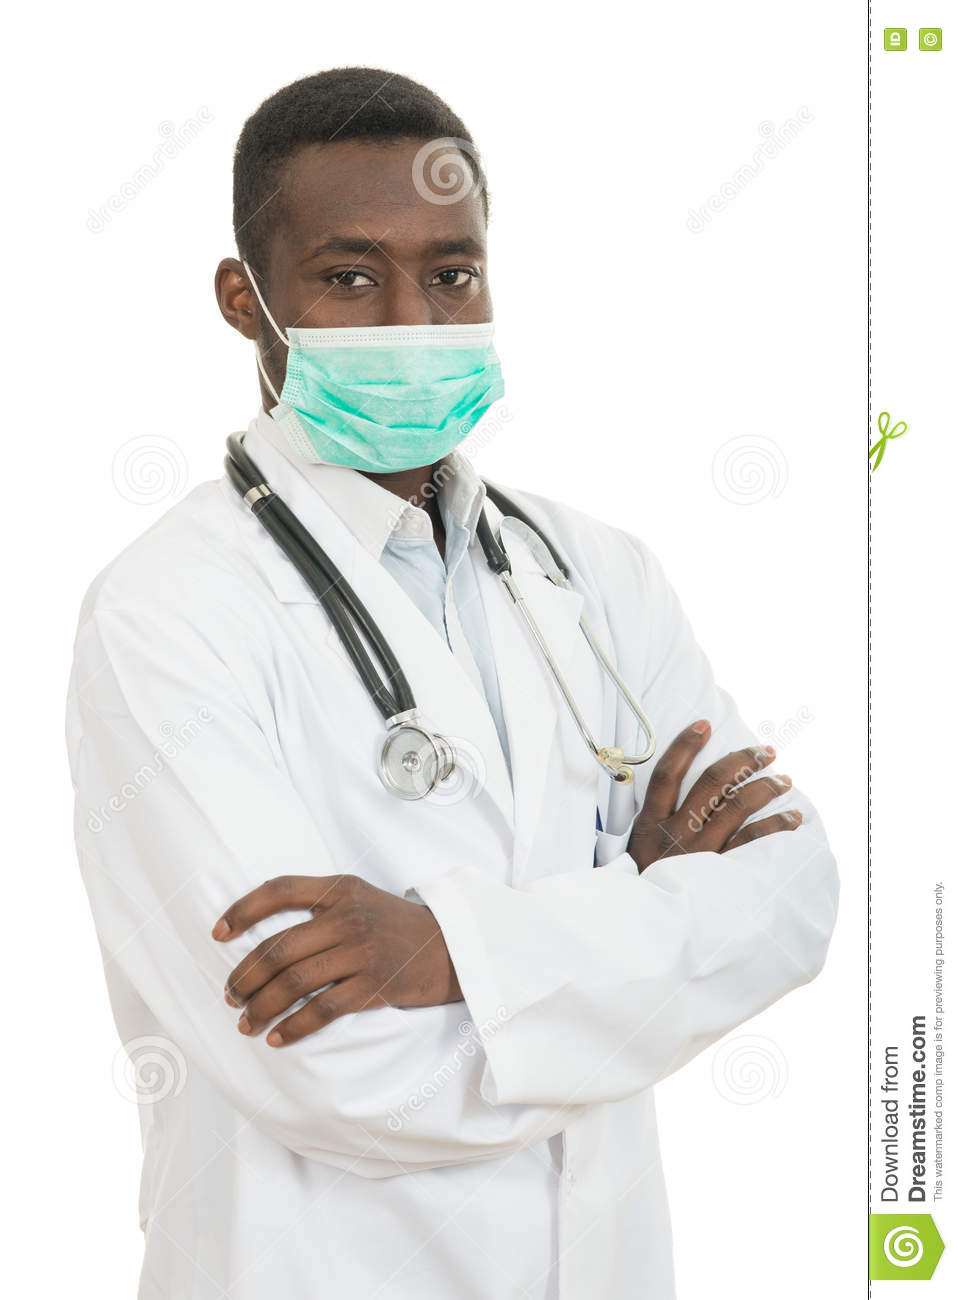mask: (287, 311, 509, 491)
